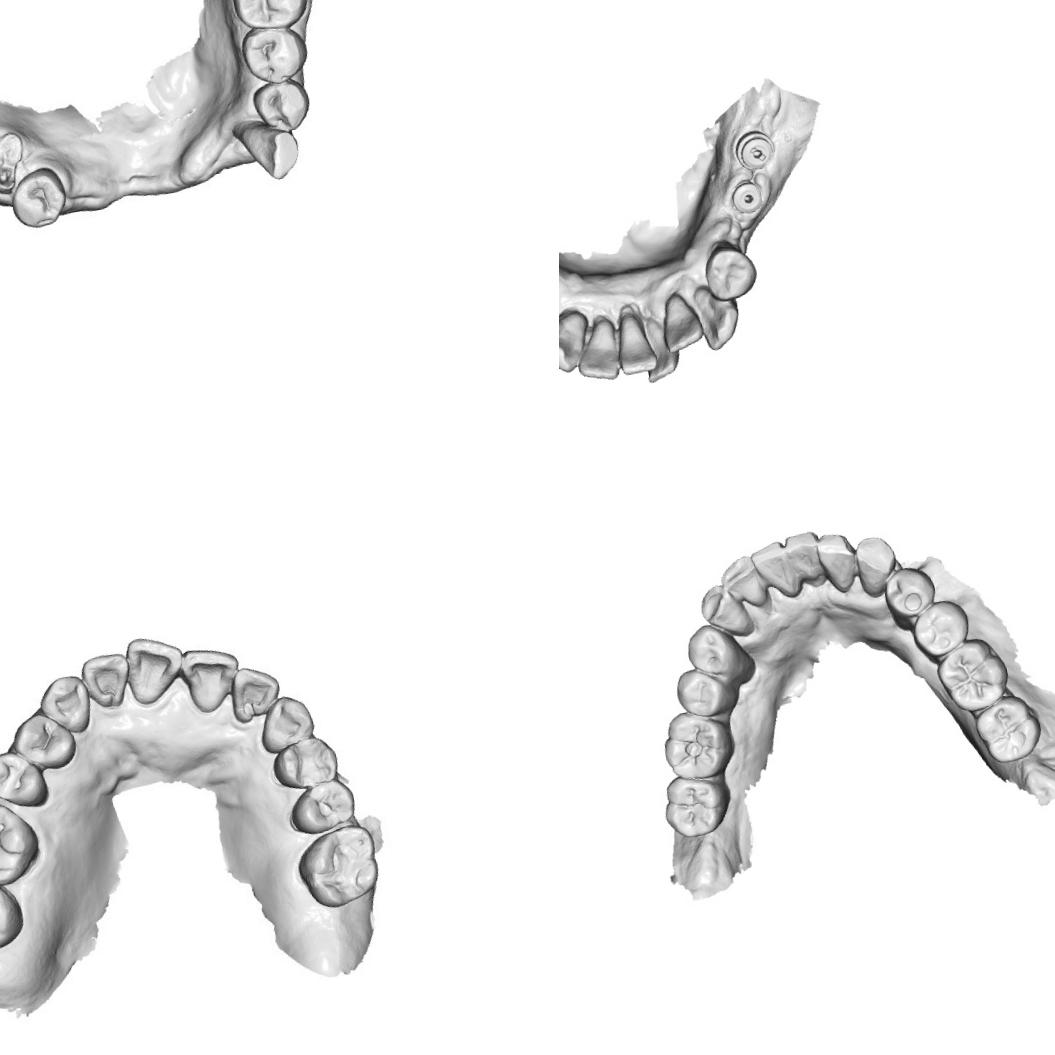canine: (235, 115, 305, 186), (34, 668, 100, 742), (250, 690, 321, 755), (690, 279, 746, 353), (696, 579, 756, 643), (850, 532, 902, 600), (559, 308, 594, 380)
implant: (724, 175, 770, 218)
implant_minus: (732, 126, 779, 172)
incisor: (118, 628, 190, 710), (175, 642, 245, 721), (220, 662, 287, 729), (747, 536, 804, 604), (608, 307, 662, 378), (569, 316, 624, 384), (636, 316, 685, 384), (717, 551, 770, 613), (656, 290, 707, 354), (812, 528, 860, 596), (80, 652, 128, 710), (782, 528, 826, 590)
molar: (291, 816, 387, 915), (931, 632, 1013, 718), (656, 703, 740, 785), (970, 690, 1045, 767), (658, 767, 736, 841), (0, 790, 46, 890), (224, 0, 315, 34), (0, 865, 28, 957)
premolar: (235, 19, 314, 93), (682, 616, 758, 692), (4, 162, 76, 232), (264, 733, 342, 796), (288, 776, 358, 843), (8, 706, 74, 776), (908, 596, 974, 665), (879, 562, 941, 633), (247, 72, 314, 136), (700, 236, 761, 303), (672, 661, 738, 722), (0, 744, 53, 814)
